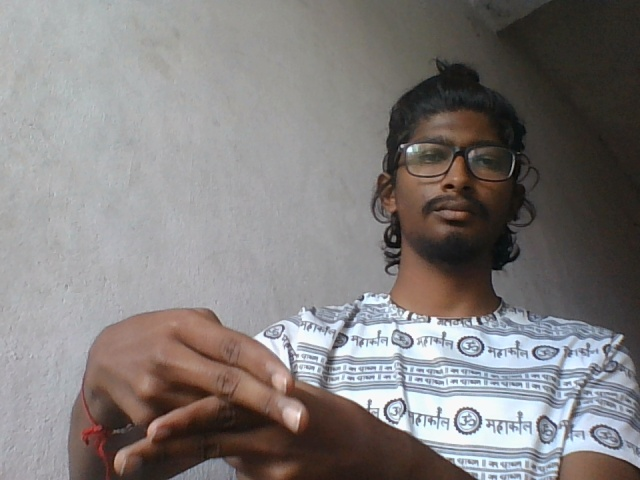Call: (64, 303, 358, 480)
